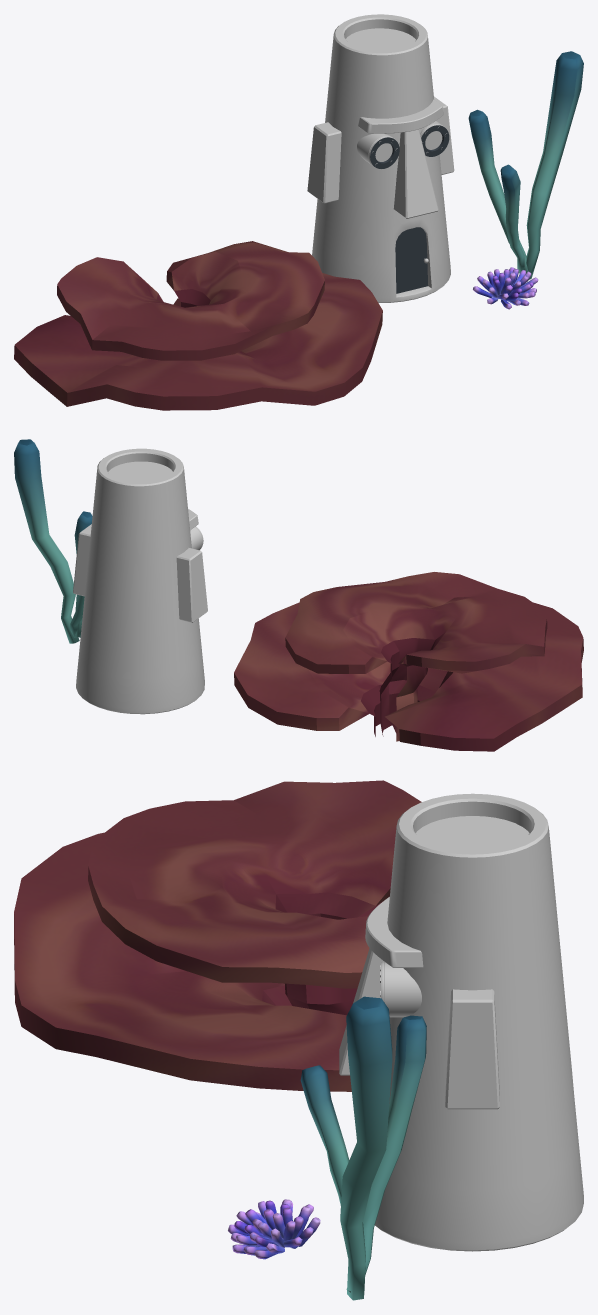
Rendered from MiscDecorative.fbx.
3 views of the same model, one above another, from view 1: azimuth 30°, elevation 25°; view 2: azimuth 150°, elevation 25°; view 3: azimuth 270°, elevation 25° (orthographic). The views are drawn at different scales.
Visible parts, largest first — view 1: House, CoralFlat, CoralFlatMini, CoralTall, Coral; view 2: House, CoralFlat, CoralFlatMini, CoralTall; view 3: House, CoralFlatMini, CoralFlat, CoralTall, Coral.
Part boxes in pixels (<box>): House: <box>307,14,454,302</box>; CoralFlat: <box>14,273,382,410</box>; CoralFlatMini: <box>57,241,324,360</box>; CoralTall: <box>468,51,583,279</box>; Coral: <box>473,267,538,309</box>; House: <box>73,448,207,714</box>; CoralFlat: <box>234,602,583,751</box>; CoralFlatMini: <box>285,572,547,736</box>; CoralTall: <box>14,439,92,643</box>; House: <box>339,793,583,1251</box>; CoralFlatMini: <box>88,780,421,1015</box>; CoralFlat: <box>14,832,381,1091</box>; CoralTall: <box>300,996,426,1300</box>; Coral: <box>228,1199,320,1259</box>.
Size of the model in its own units: 849 by 381 by 467.
